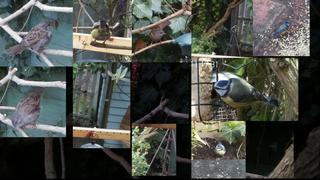blue tit: (211, 78, 278, 108), (91, 20, 112, 48), (273, 20, 290, 36), (214, 141, 226, 160)
dunnock: (4, 20, 53, 56), (11, 86, 46, 131), (149, 20, 171, 48)
